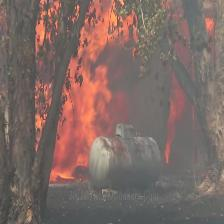fire: (36, 0, 140, 182)
